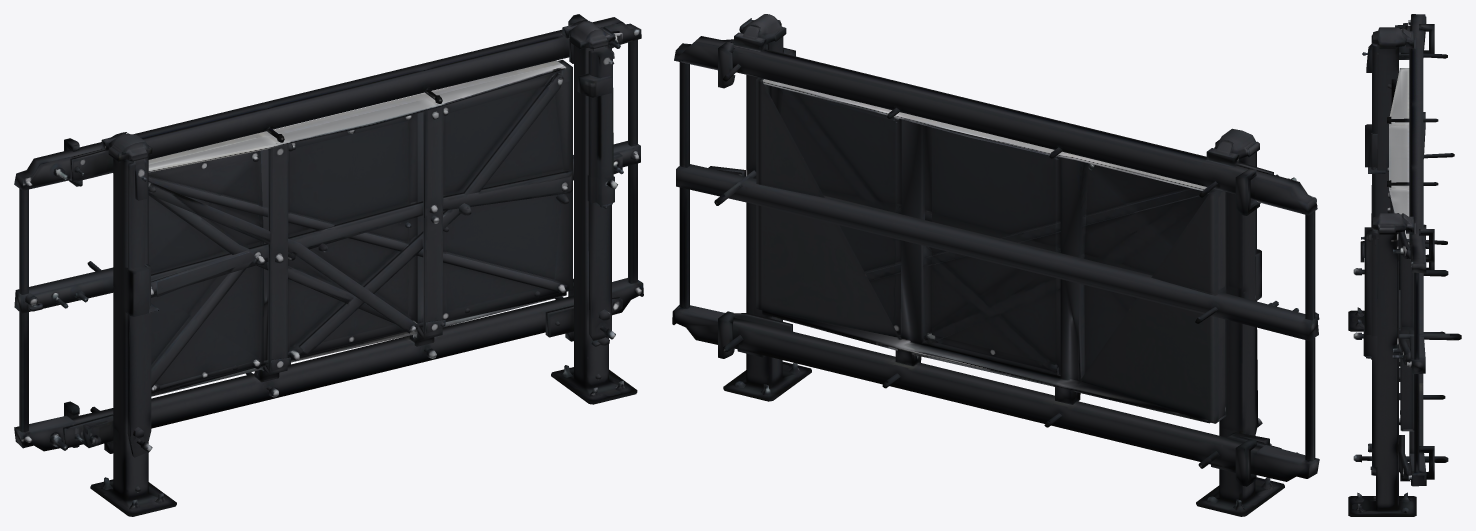
Rendered from industrial+guardrail+3d+model.glb.
3 renders of one model, left to right at view 1: azimuth 30°, elevation 25°; view 2: azimuth 150°, elevation 25°; view 3: azimuth 270°, elevation 25°, orthographic. The views are drawn at different scales.
Parts seen in each view (by area): view 1: tripo_node_d61bed5b-f6f6-4688-976c-ec4060214f29; view 2: tripo_node_d61bed5b-f6f6-4688-976c-ec4060214f29; view 3: tripo_node_d61bed5b-f6f6-4688-976c-ec4060214f29.
Boxes of the visible parts, bbox=[...] form: tripo_node_d61bed5b-f6f6-4688-976c-ec4060214f29: bbox=[14, 14, 643, 516]; tripo_node_d61bed5b-f6f6-4688-976c-ec4060214f29: bbox=[672, 14, 1319, 516]; tripo_node_d61bed5b-f6f6-4688-976c-ec4060214f29: bbox=[1348, 14, 1461, 516].
Size of the model in its own units: 0.9995 by 0.5444 by 0.1909.
1 material, 1 textured.
